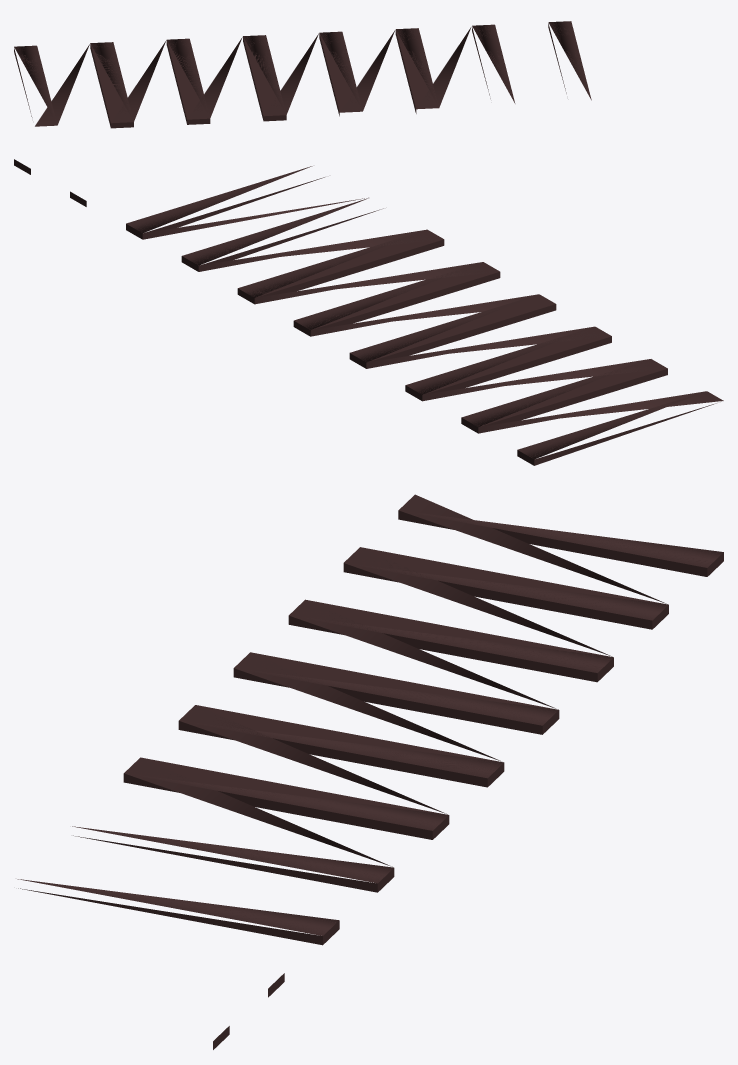
3 views of the same model, one above another, from view 1: azimuth 30°, elevation 25°; view 2: azimuth 150°, elevation 25°; view 3: azimuth 270°, elevation 25° (orthographic). The views are drawn at different scales.
Size of the model in its own units: 8.18 by 0.064 by 4.49.
